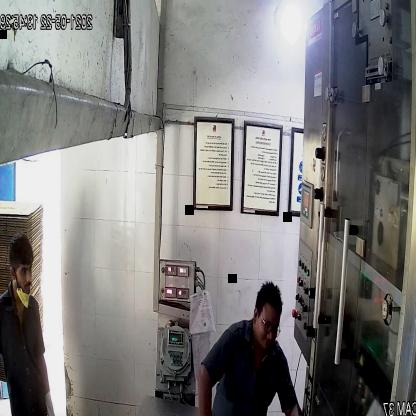goggles: (256, 314, 283, 341)
no_goggles: (10, 262, 34, 280)
